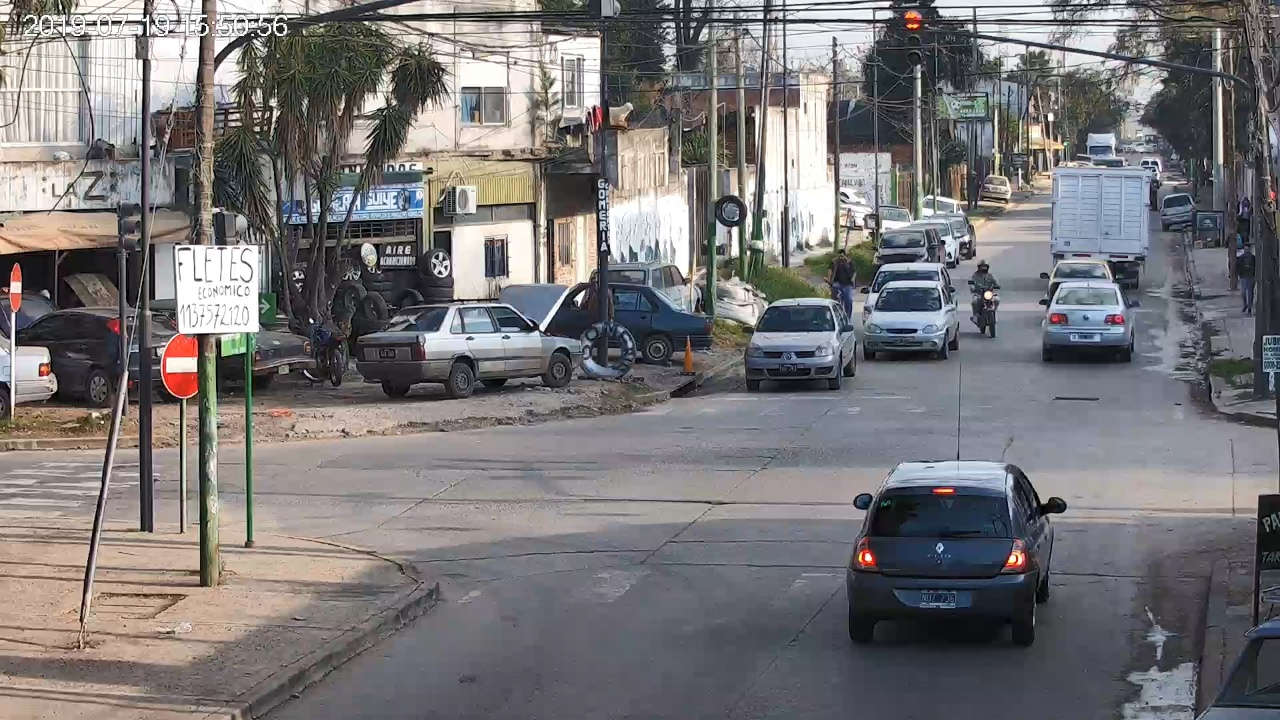car: (847, 459, 1066, 644), (1039, 284, 1140, 362)
front car: (742, 296, 856, 390)
front motorcycle: (967, 272, 1002, 337)
traffic light: (902, 8, 925, 67)
